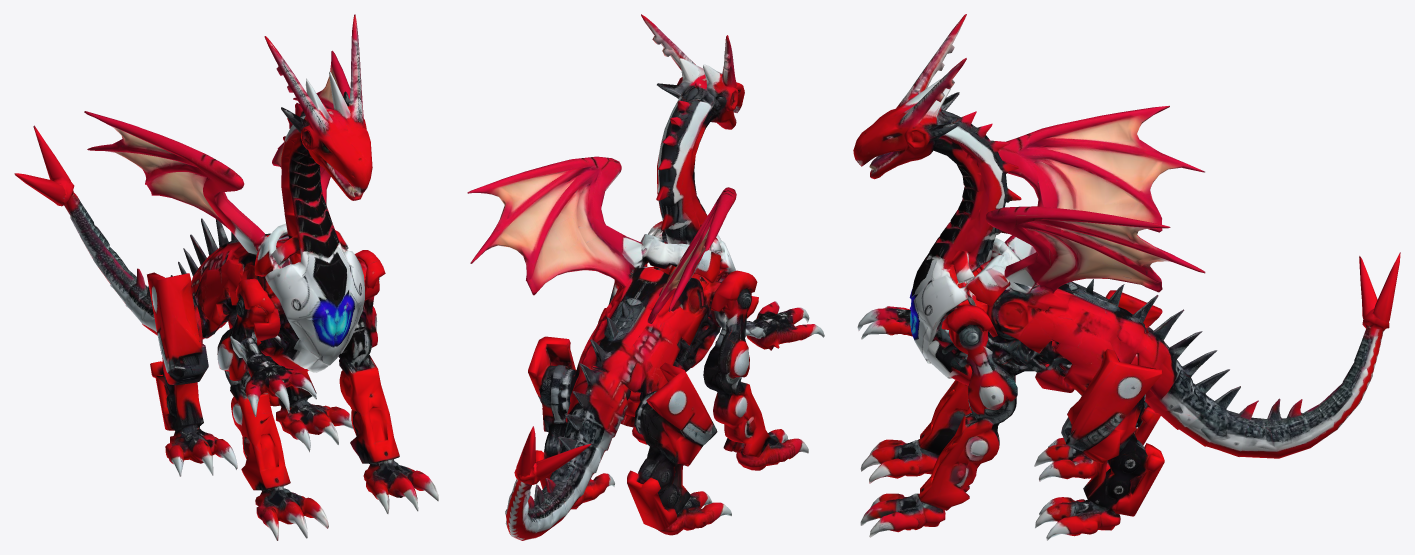
The model's file is TC001_Meshy 6 Preview.glb.
3 renders of one model, left to right at view 1: azimuth 30°, elevation 25°; view 2: azimuth 150°, elevation 25°; view 3: azimuth 270°, elevation 25°, orthographic. The views are drawn at different scales.
Bounding box in the file's own units: 1.01 × 1.79 × 1.91.
Materials: 1 (1 with a texture image).
